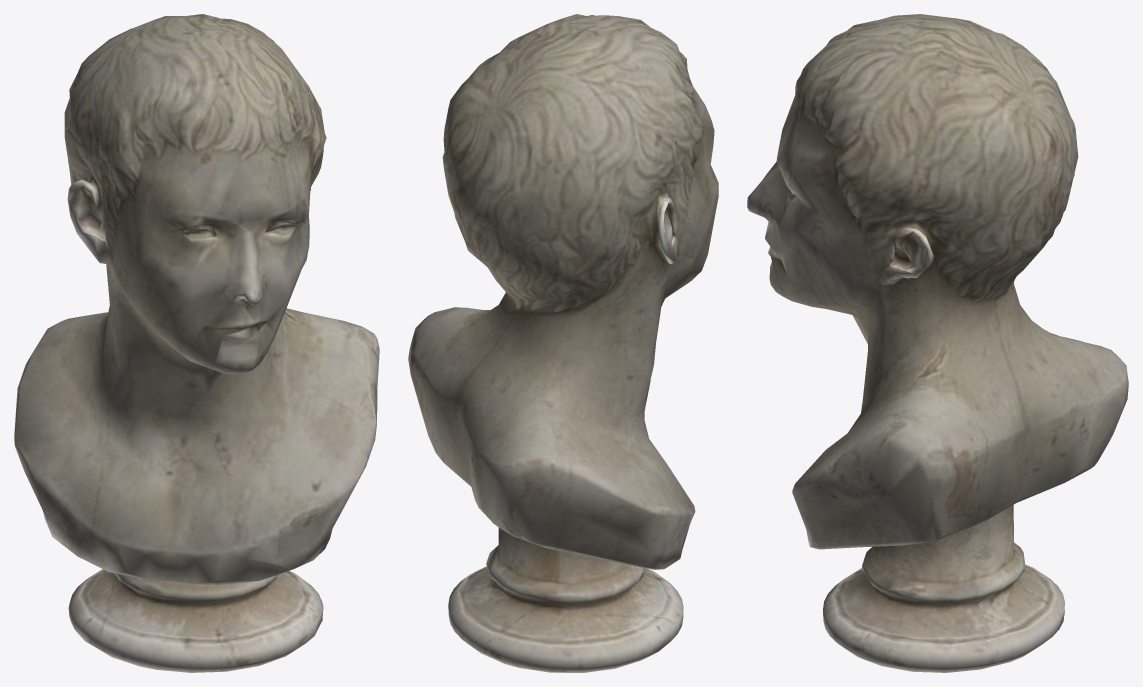
File: bueste.glb
3 renders of one model, left to right at view 1: azimuth 30°, elevation 25°; view 2: azimuth 150°, elevation 25°; view 3: azimuth 270°, elevation 25°, orthographic. The views are drawn at different scales.
Parts seen in each view (by area): view 1: marble_bust_01; view 2: marble_bust_01; view 3: marble_bust_01.
Part boxes in pixels (<box>): marble_bust_01: <box>14,14,379,672</box>; marble_bust_01: <box>408,14,718,672</box>; marble_bust_01: <box>747,14,1128,672</box>.
Size of the model in its own units: 0.2718 by 0.5148 by 0.2986.
1 material, 1 textured.
